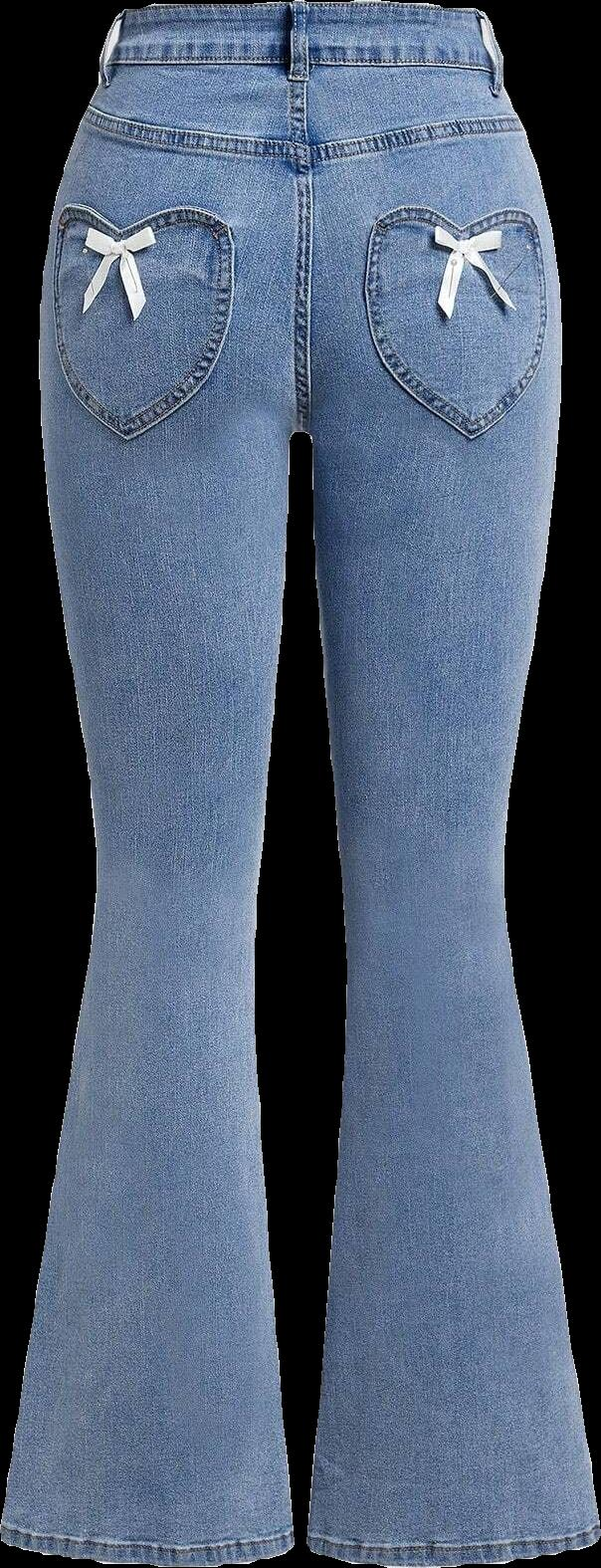Hemline: (304, 1504, 599, 1566), (0, 1522, 296, 1567)
Pantleg: (291, 1, 599, 1567), (0, 6, 298, 1564)
Waistline: (82, 105, 520, 166), (98, 48, 507, 81)
